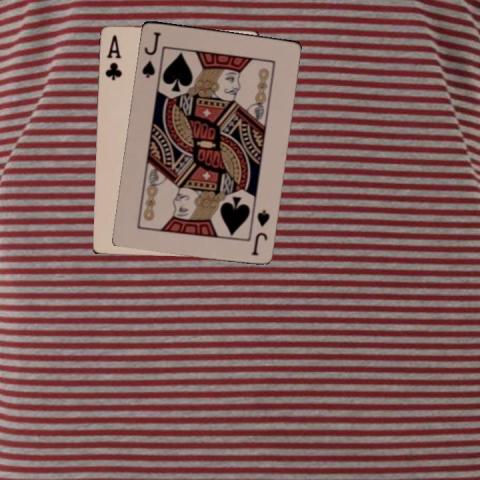Ac: (102, 33, 122, 82)
Js: (248, 206, 271, 257), (139, 29, 162, 78)
